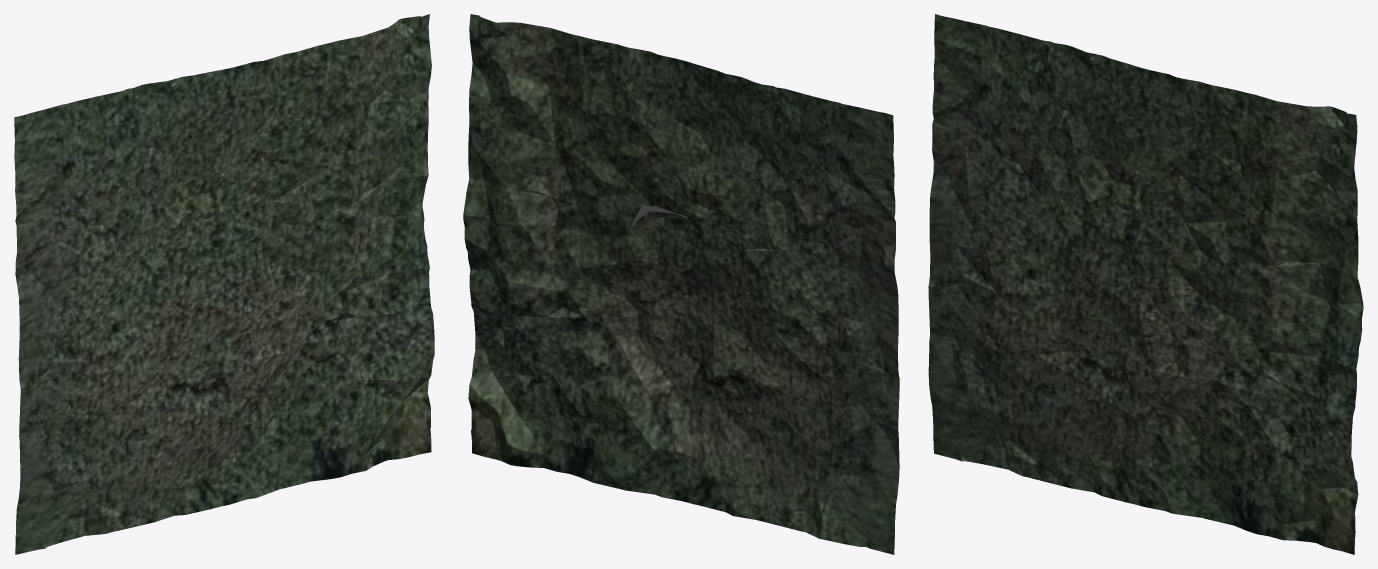
The model's file is Tile_+032_+024_L19_000301.obj.
3 views of the same model, side by side, from view 1: azimuth 30°, elevation 25°; view 2: azimuth 150°, elevation 25°; view 3: azimuth 330°, elevation 25° (orthographic).
Size of the model in its own units: 31.75 by 31.75 by 3.24.
Materials: 1 (1 with a texture image).
